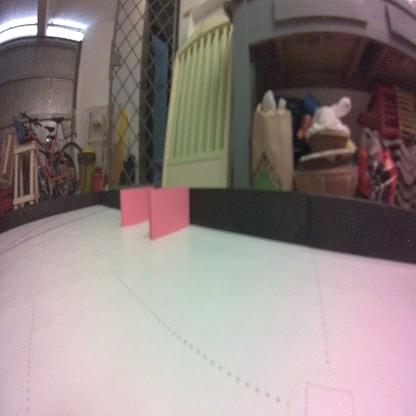magenta: (145, 191, 191, 240), (119, 183, 152, 225)
